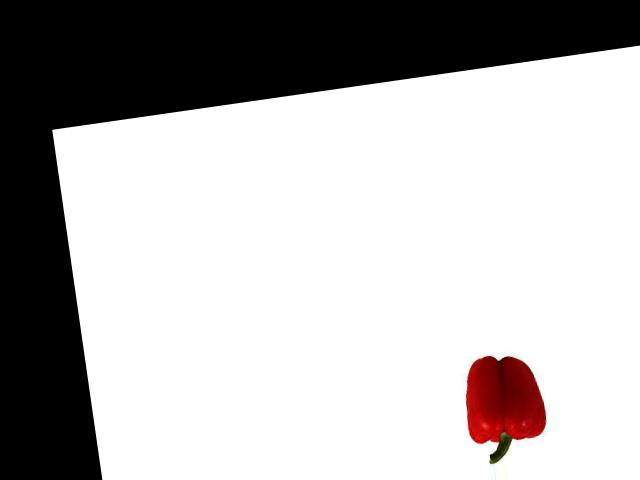bell_pepper: (455, 346, 562, 466)
